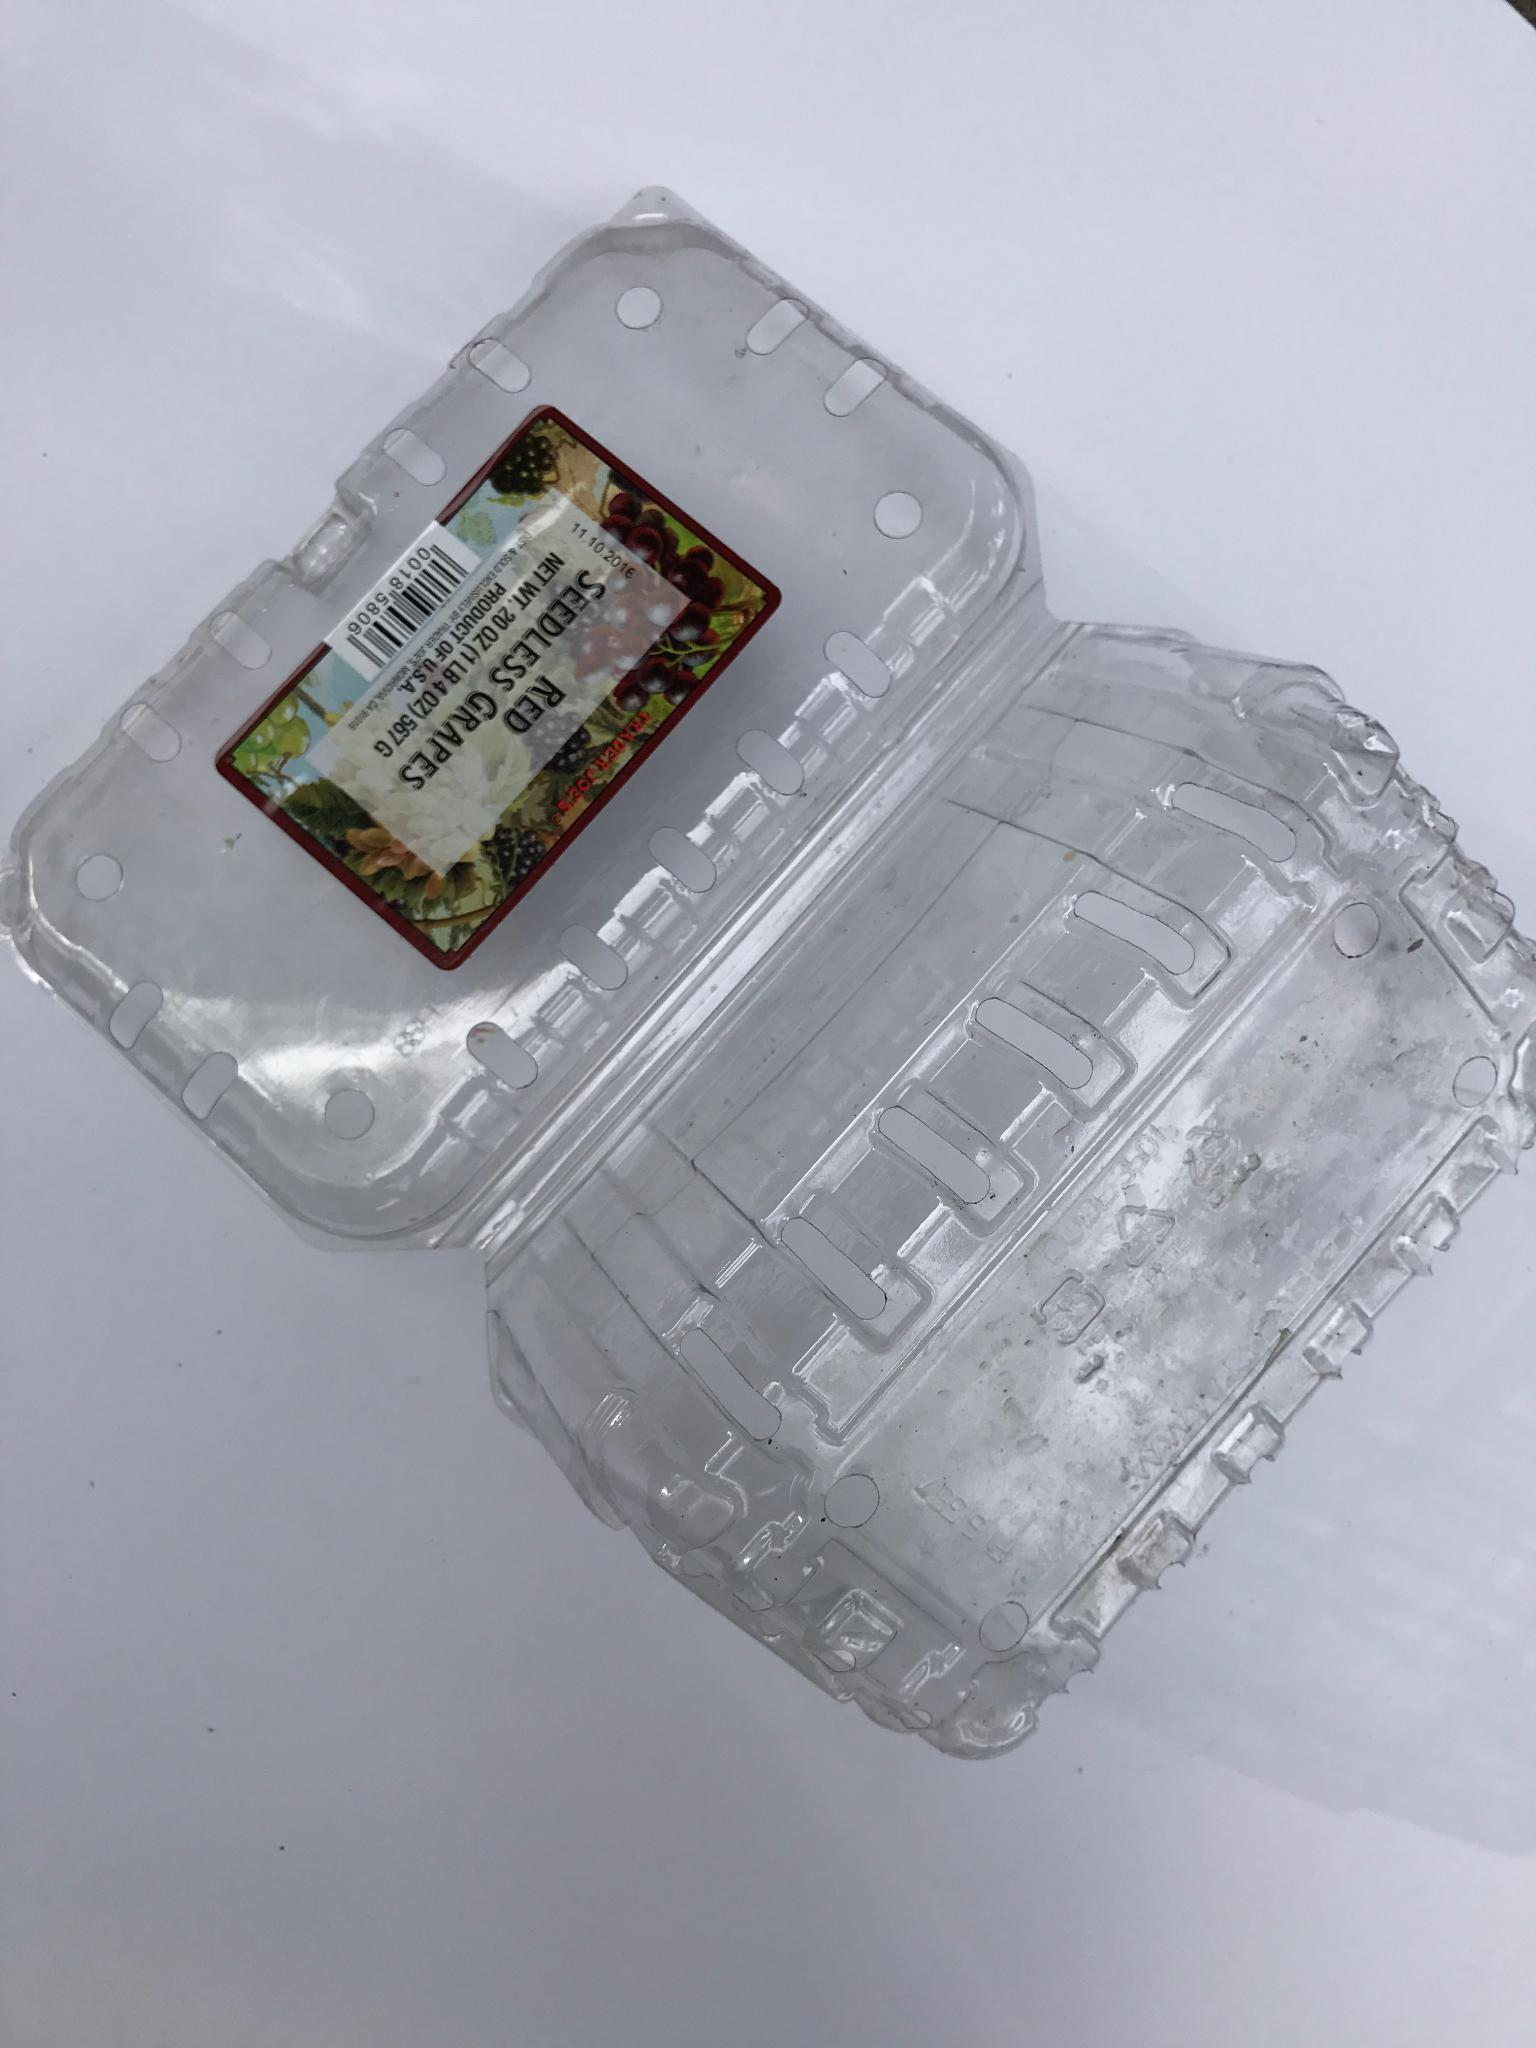Plastic: (0, 166, 1534, 1788)
